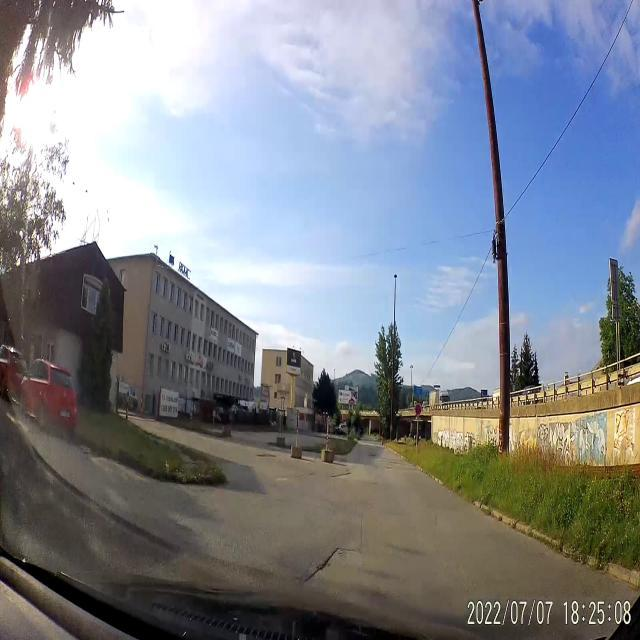Pothole: (297, 540, 342, 588), (256, 451, 276, 461), (386, 464, 393, 474), (368, 451, 377, 458)
